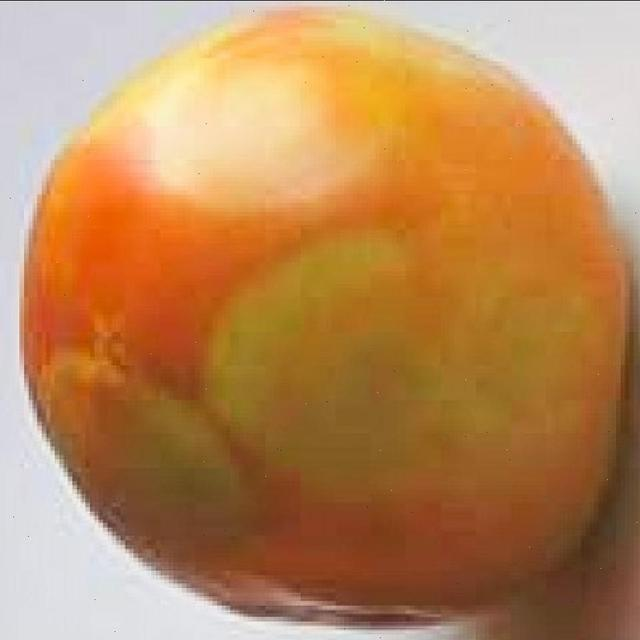Spotted wilt Virus Fruit: (9, 2, 421, 418)
